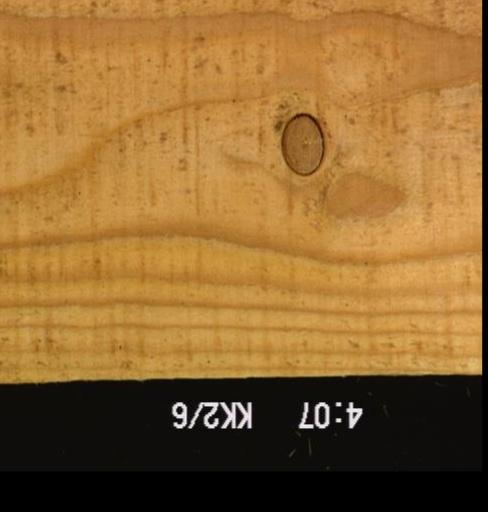dry_knot: (280, 111, 327, 176)
